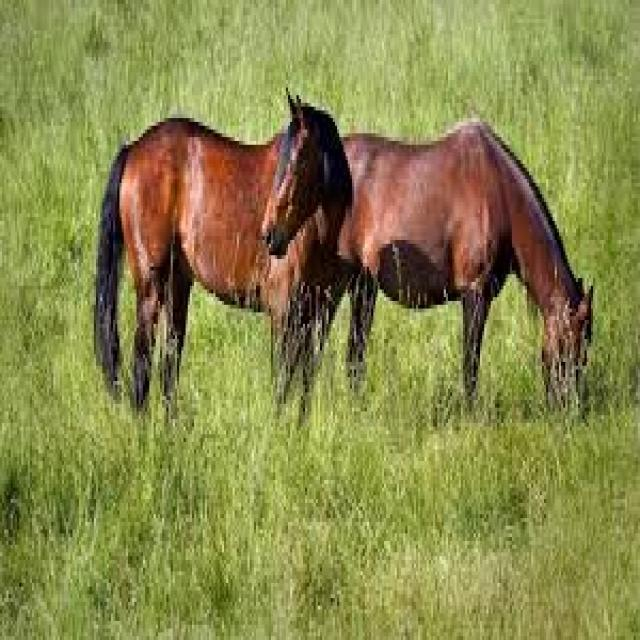horse: (92, 86, 356, 418), (344, 117, 600, 431)
